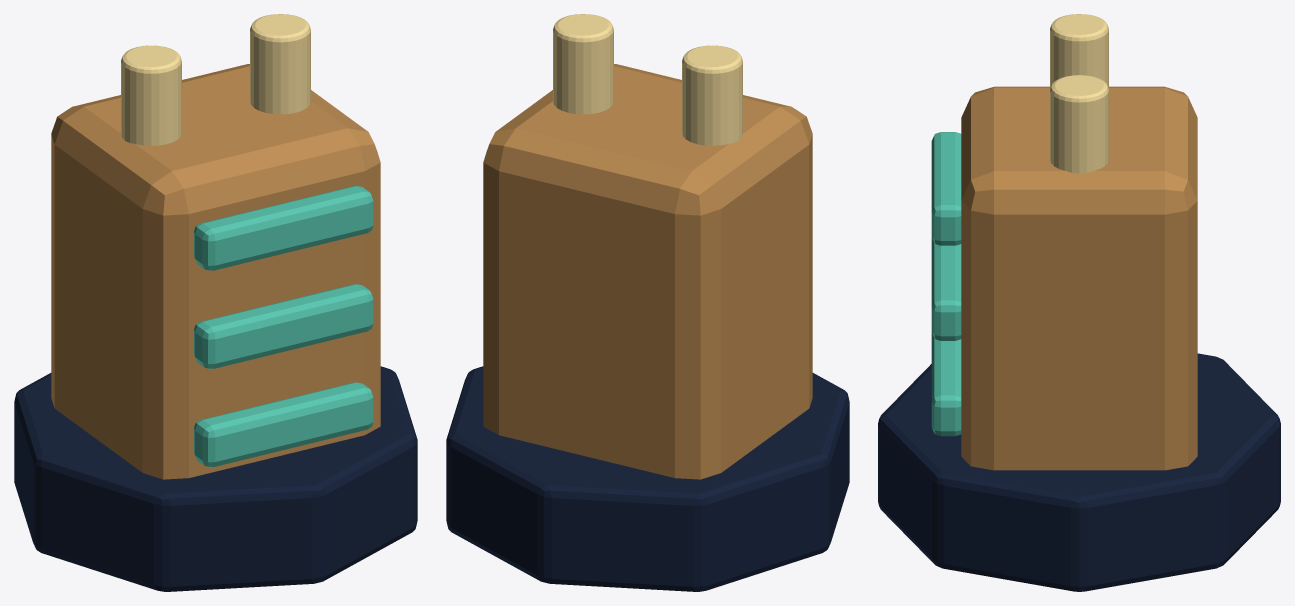
The model's file is Mission_power_relay.fbx.
3 views of the same model, side by side, from view 1: azimuth 30°, elevation 25°; view 2: azimuth 150°, elevation 25°; view 3: azimuth 270°, elevation 25° (orthographic). The views are drawn at different scales.
Visible parts, largest first — view 1: Mission_power_relay.Mesh; view 2: Mission_power_relay.Mesh; view 3: Mission_power_relay.Mesh.
Part boxes in pixels (box(x1,y1,x2,y2)): Mission_power_relay.Mesh: box(14, 14, 417, 591); Mission_power_relay.Mesh: box(446, 14, 849, 591); Mission_power_relay.Mesh: box(878, 14, 1280, 591).
Size of the model in its own units: 61.37 by 76.5 by 61.37.
